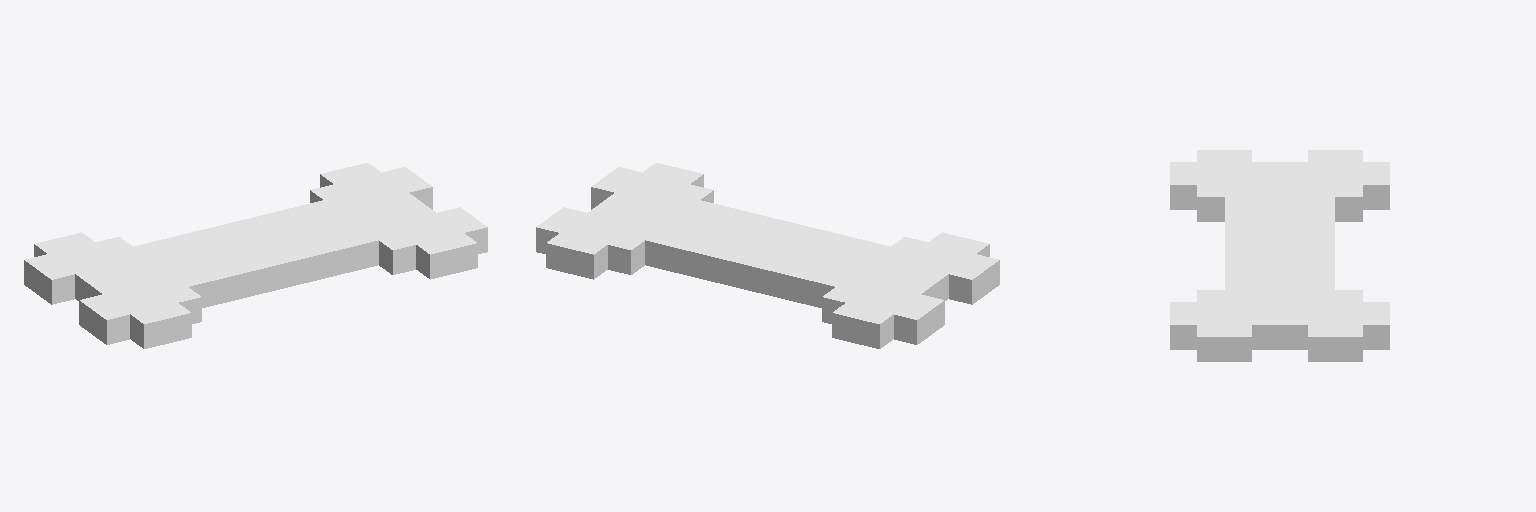
The model's file is SingleBone.obj.
3 views of the same model, side by side, from view 1: azimuth 30°, elevation 25°; view 2: azimuth 150°, elevation 25°; view 3: azimuth 270°, elevation 25° (orthographic).
Bounding box in the file's own units: 16 × 1 × 8.